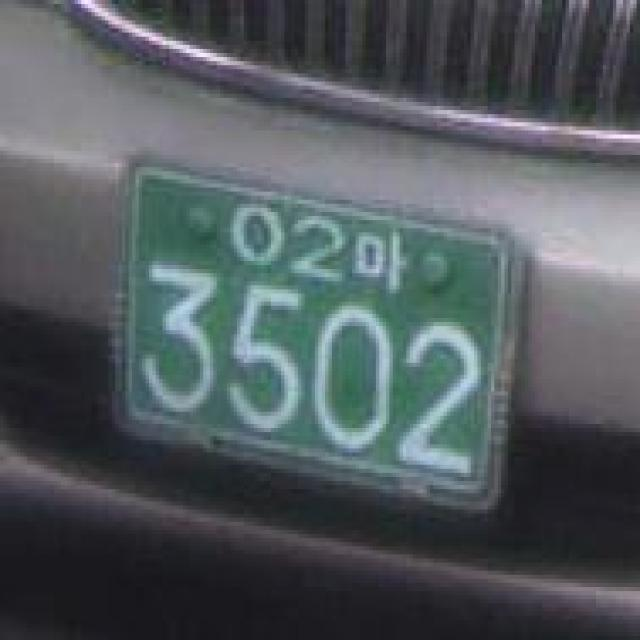illegal_plate: (97, 146, 534, 522)
